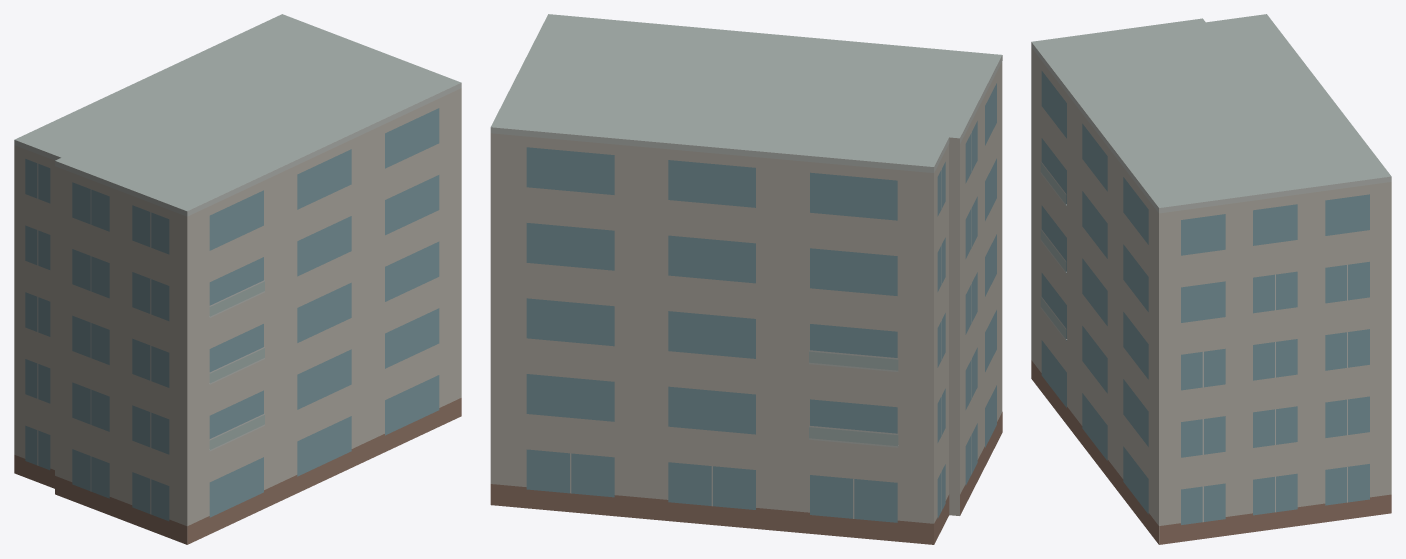
The model's file is survey-upis-32620336.glb.
The picture shows the model from 3 angles, left to right: view 1: azimuth 30°, elevation 25°; view 2: azimuth 150°, elevation 25°; view 3: azimuth 270°, elevation 25°; orthographic projection. The views are drawn at different scales.
Visible parts, largest first — view 1: survey-upis-32620336.tmp; view 2: survey-upis-32620336.tmp; view 3: survey-upis-32620336.tmp.
Boxes of the visible parts, x1=… form: survey-upis-32620336.tmp: x1=14, y1=14, x2=461, y2=544; survey-upis-32620336.tmp: x1=490, y1=14, x2=1002, y2=544; survey-upis-32620336.tmp: x1=1031, y1=14, x2=1391, y2=544.
Size of the model in its own units: 18.86 by 15.25 by 14.8.
